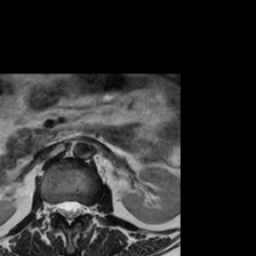CCS_normal: (65, 194, 73, 231)
LFS_normal: (82, 199, 90, 218)
LLS_normal: (73, 194, 81, 224)
RFS_normal: (49, 197, 57, 221)
RLS_normal: (57, 194, 65, 223)
